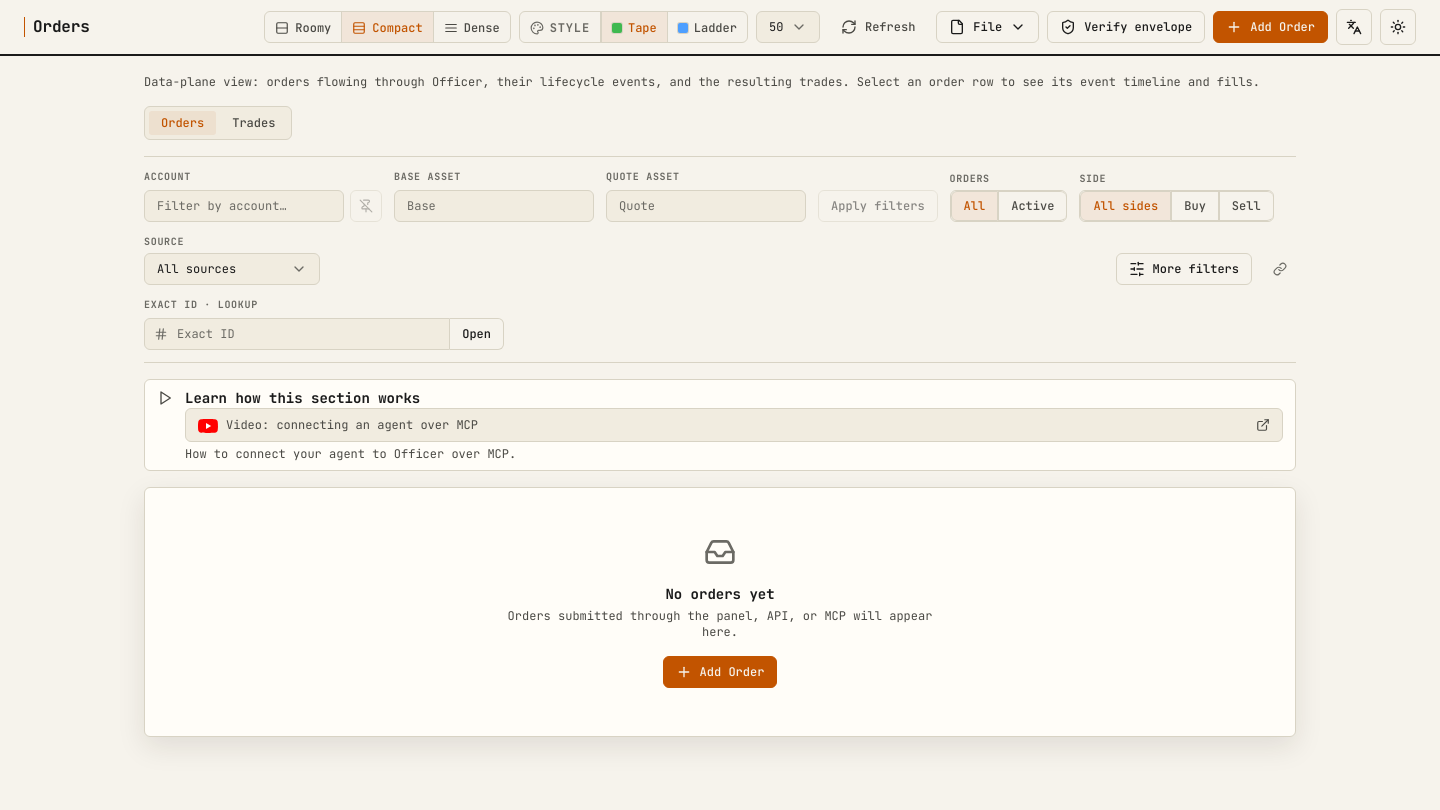
Orders page tabs › switches from orders to trades and back by clicking tabs
The image size is (1440, 810).
Expected: the panel named "orders" shows "No orders yet", [665, 585, 775, 603]
Click the tab "Trades": (254, 123) [220, 111, 287, 135]
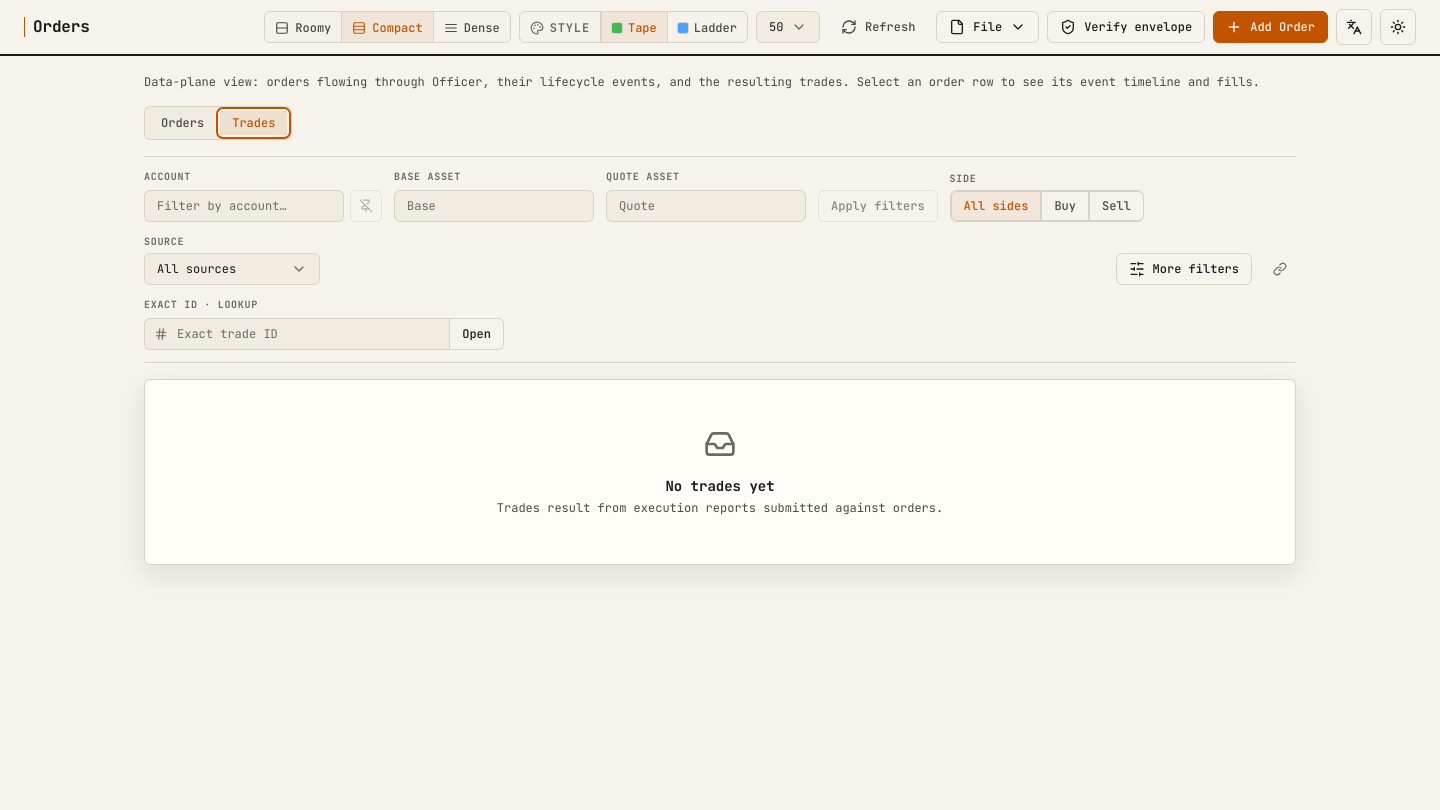
Expected: the panel "trades" shows "No trades yet", [665, 477, 775, 495]
Click the tab "Orders": (183, 123) [149, 111, 216, 135]
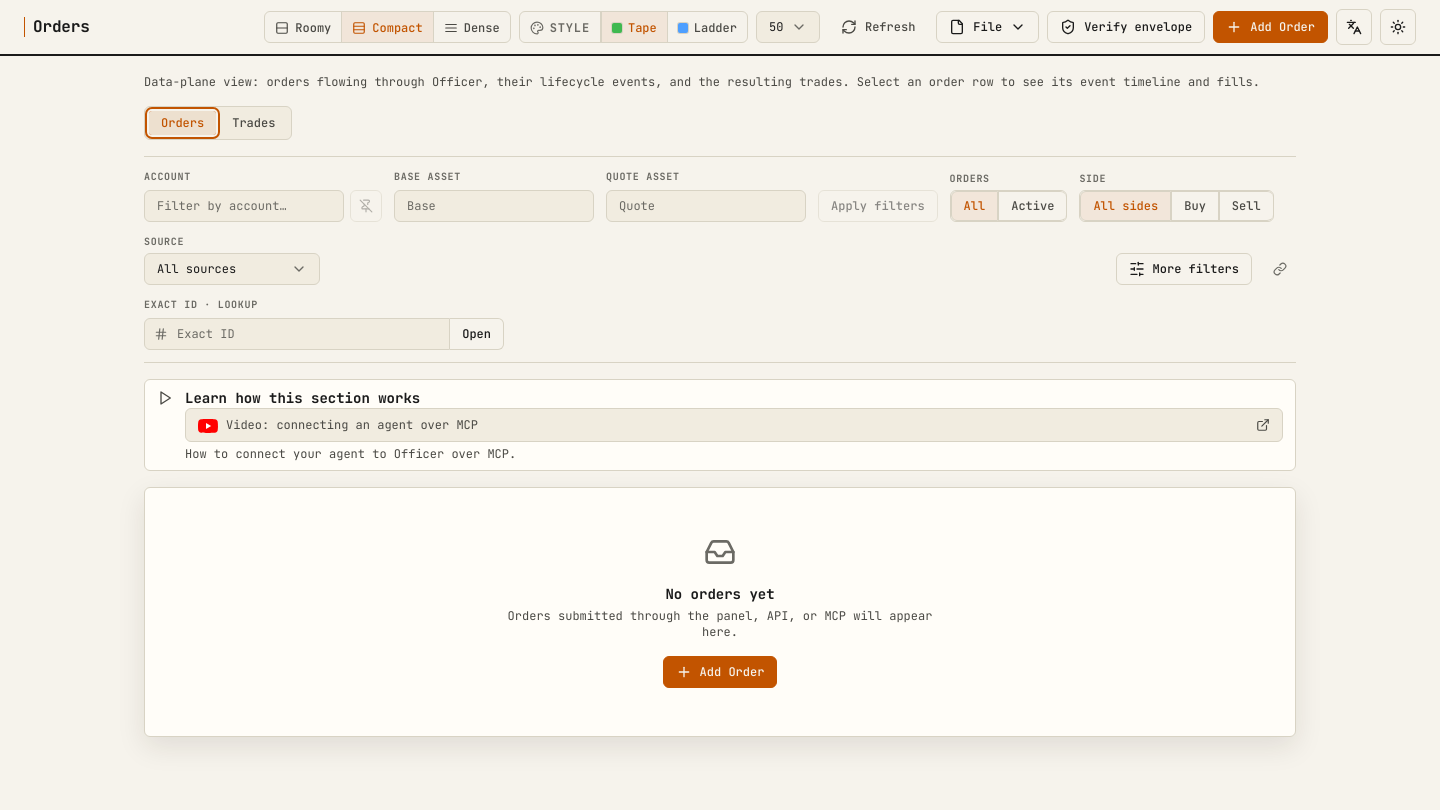
Expected: the panel named "orders" shows "No orders yet", [665, 585, 775, 603]
